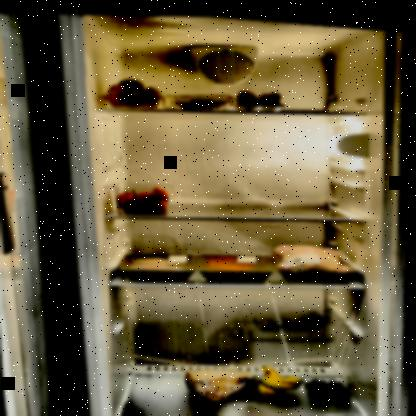banana: (245, 357, 309, 397)
beef: (195, 244, 279, 284)
blueberries: (302, 362, 362, 403)
chicken: (271, 230, 363, 284), (118, 246, 200, 284)
eggs: (234, 81, 288, 111)
potato: (104, 71, 165, 110)
shrimp: (170, 89, 237, 112)
strawberries: (114, 180, 171, 215)
